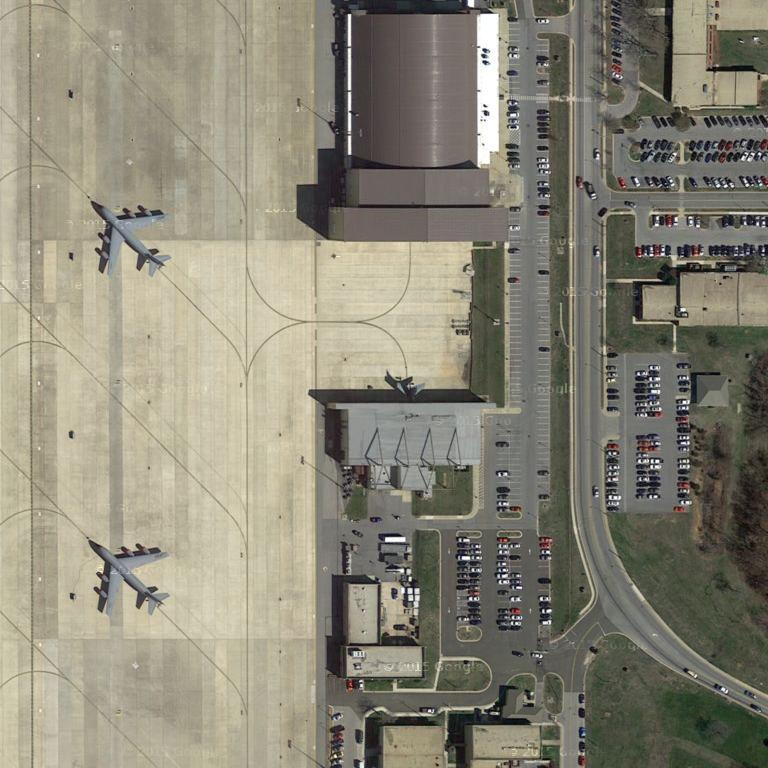KC-135: (90, 202, 177, 283), (89, 543, 176, 623)
